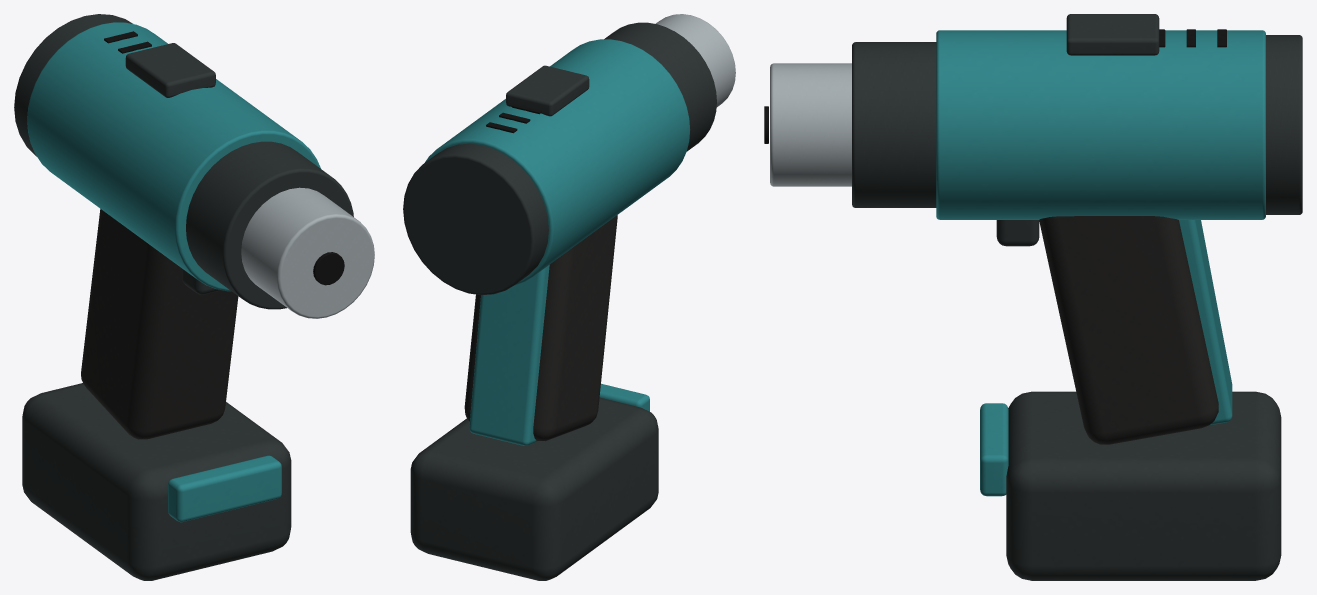
The model's file is cordless-drill-driver.glb.
3 views of the same model, side by side, from view 1: azimuth 30°, elevation 25°; view 2: azimuth 150°, elevation 25°; view 3: azimuth 270°, elevation 25° (orthographic). The views are drawn at different scales.
Visible parts, largest first — view 1: Removable battery pack, Drill motor housing, Angled rubber grip, Metal chuck, Torque selector collar, Battery release tab, Speed selector, Motor rear cap, Chuck opening; view 2: Removable battery pack, Drill motor housing, Motor rear cap, Angled rubber grip, Grip colored spine, Torque selector collar, Metal chuck, Speed selector, Battery release tab; view 3: Drill motor housing, Removable battery pack, Angled rubber grip, Torque selector collar, Metal chuck, Motor rear cap, Grip colored spine, Speed selector, Battery release tab, Trigger switch.
Part boxes in pixels (x1,y1,x2,y2): Removable battery pack: (22, 383, 291, 580); Drill motor housing: (27, 22, 320, 291); Angled rubber grip: (81, 209, 238, 439); Metal chuck: (241, 187, 374, 318); Torque selector collar: (186, 141, 353, 309); Battery release tab: (168, 455, 281, 522); Speed selector: (125, 43, 215, 97); Motor rear cap: (14, 14, 132, 156); Chuck opening: (313, 252, 344, 285); Removable battery pack: (410, 397, 658, 580); Drill motor housing: (425, 39, 690, 285); Motor rear cap: (403, 143, 548, 295); Angled rubber grip: (464, 215, 617, 441); Grip colored spine: (469, 265, 549, 445); Torque selector collar: (604, 22, 716, 151); Metal chuck: (655, 14, 735, 107); Speed selector: (506, 65, 589, 116); Battery release tab: (599, 383, 649, 411); Drill motor housing: (936, 30, 1265, 219); Removable battery pack: (1006, 391, 1281, 580); Angled rubber grip: (1039, 216, 1218, 444); Torque selector collar: (852, 42, 936, 207); Metal chuck: (770, 63, 851, 186); Motor rear cap: (1266, 35, 1302, 214); Grip colored spine: (1179, 220, 1232, 424); Speed selector: (1066, 14, 1159, 55); Battery release tab: (980, 403, 1008, 496); Trigger switch: (996, 220, 1039, 246).
Bounding box in the file's own units: 0.086 × 0.242 × 0.227.
Materials: 5 (5 with a texture image).
